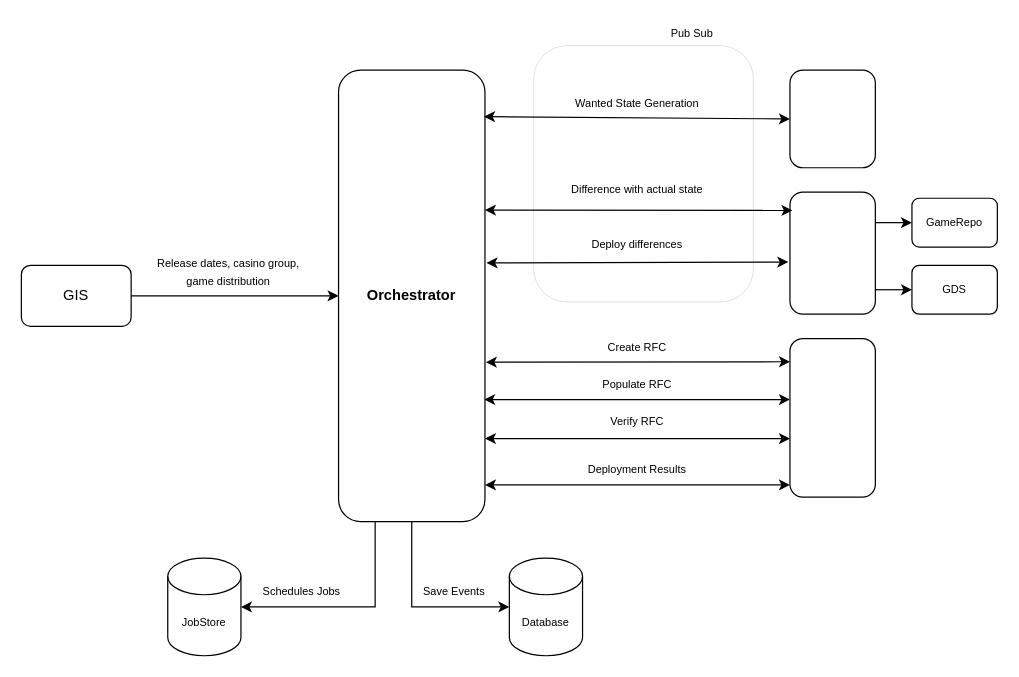
Some shapes in this 1019 by 677 pixel diagram are drawn without their labels. The box of each missing label's shape, as (x1, y1, x2, y2) in pixels:
Flatfile: (789, 69, 875, 168)
PAC/RFC: (789, 337, 875, 497)
Sunshine: (789, 191, 875, 314)
